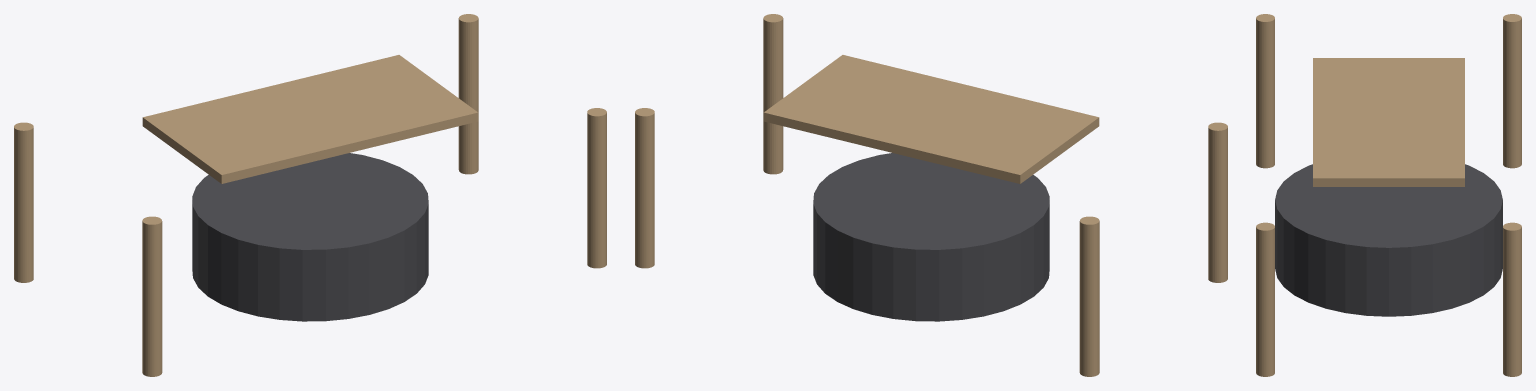
Rendered from charcoal_clamp.glb.
The picture shows the model from 3 angles, left to right: view 1: azimuth 30°, elevation 25°; view 2: azimuth 150°, elevation 25°; view 3: azimuth 270°, elevation 25°; orthographic projection. The views are drawn at different scales.
Visible parts, largest first — view 1: charcoal_clamp, bench_top, bench_leg_-1.3_-0.65, bench_leg_1.3_-0.65, bench_leg_-1.3_0.65, bench_leg_1.3_0.65; view 2: charcoal_clamp, bench_top, bench_leg_-1.3_0.65, bench_leg_1.3_0.65, bench_leg_-1.3_-0.65, bench_leg_1.3_-0.65; view 3: charcoal_clamp, bench_top, bench_leg_1.3_0.65, bench_leg_1.3_-0.65, bench_leg_-1.3_0.65, bench_leg_-1.3_-0.65.
Part boxes in pixels (box(x1,y1,x2,y2)): charcoal_clamp: box(192, 153, 428, 321); bench_top: box(142, 55, 478, 183); bench_leg_-1.3_-0.65: box(142, 216, 162, 376); bench_leg_1.3_-0.65: box(587, 108, 606, 268); bench_leg_-1.3_0.65: box(14, 122, 33, 282); bench_leg_1.3_0.65: box(458, 14, 478, 174); charcoal_clamp: box(813, 153, 1049, 321); bench_top: box(763, 55, 1099, 183); bench_leg_-1.3_0.65: box(1079, 216, 1099, 376); bench_leg_1.3_0.65: box(635, 108, 654, 268); bench_leg_-1.3_-0.65: box(1208, 122, 1227, 282); bench_leg_1.3_-0.65: box(763, 14, 783, 174); charcoal_clamp: box(1275, 164, 1502, 316); bench_top: box(1313, 58, 1464, 186); bench_leg_1.3_0.65: box(1503, 222, 1521, 376); bench_leg_1.3_-0.65: box(1256, 222, 1274, 376); bench_leg_-1.3_0.65: box(1503, 14, 1521, 168); bench_leg_-1.3_-0.65: box(1256, 14, 1274, 168).
Bounding box in the file's own units: 2.7 × 0.875 × 1.4.
